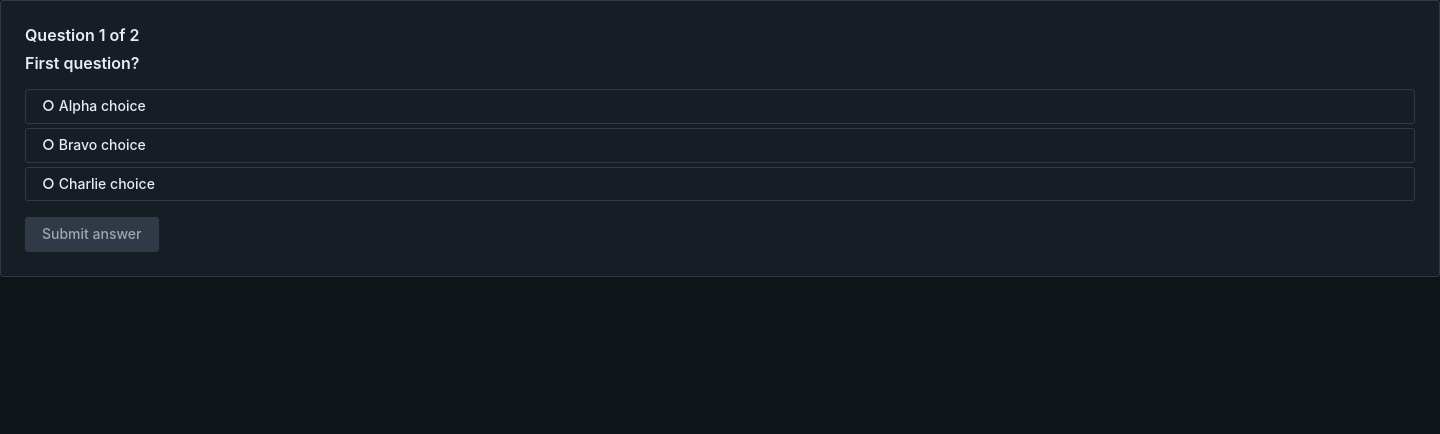
Test case: QuestionRun: progression leaves nothing behind › clears selection, feedback, rationale and lock on the next question
Click the button "○Alpha choice" at x=102, y=106, box [25,89,1415,124]
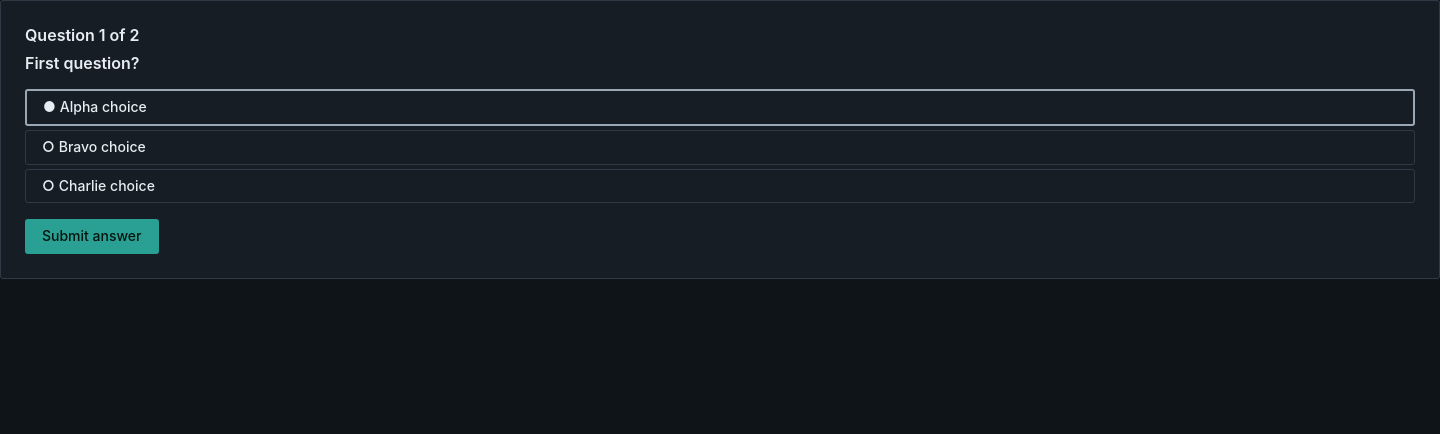
Click the button "Submit answer" at x=92, y=237, box [25,219,158,254]
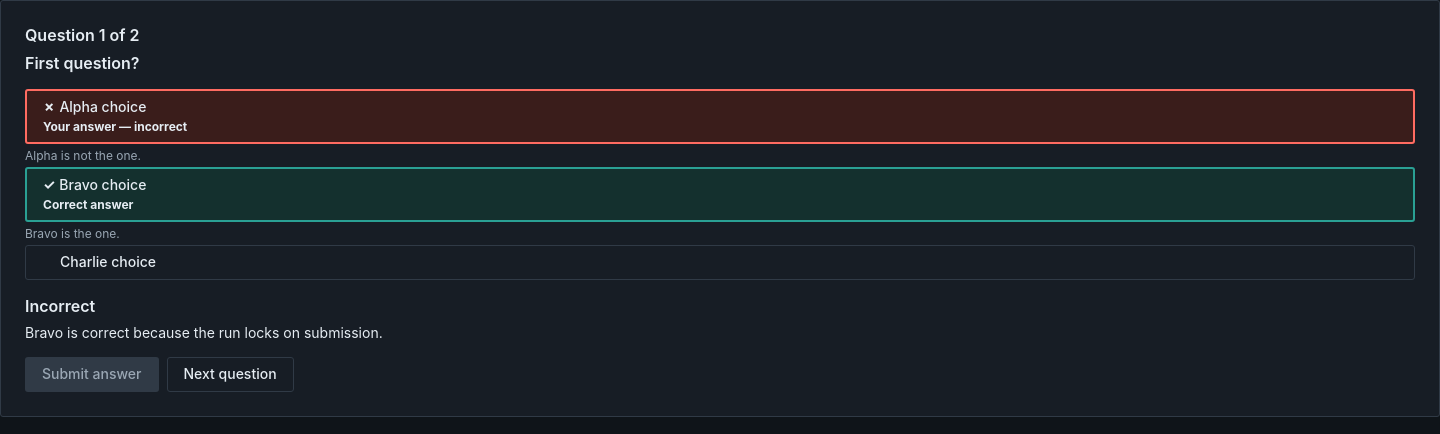
Result: the text "Bravo is correct because the run locks on submission." is shown at [25,324,383,341]
Click the button "Next question" at x=230, y=375, box [166,357,294,392]
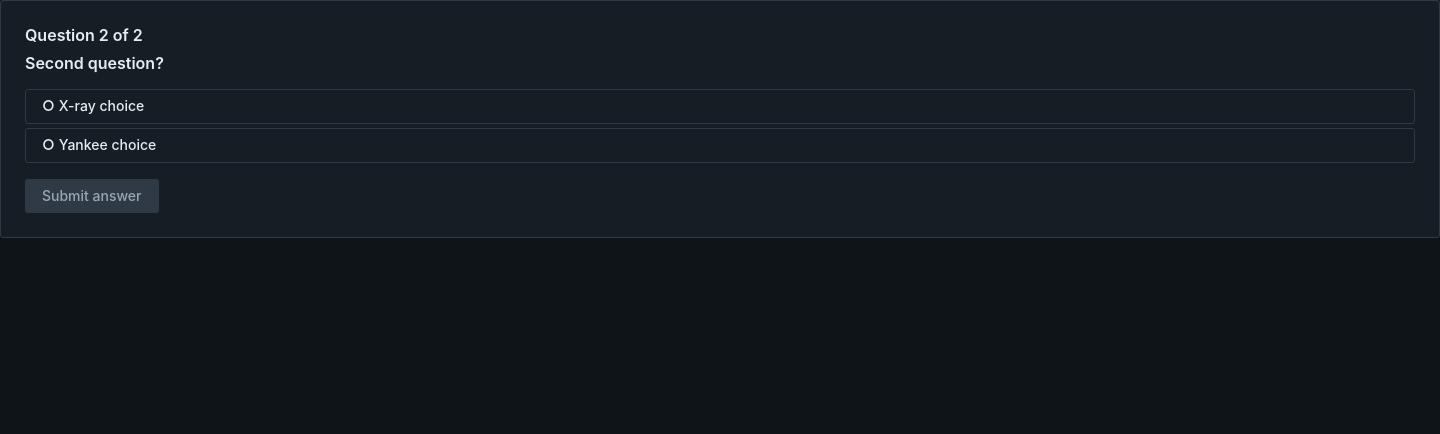
Result: the text "Second question?" is shown at [25,53,164,73]
Result: the heading "Question 2 of 2" is shown at [25,25,143,45]
Result: the message "Incorrect Bravo is correct because the run locks on submission." is gone
